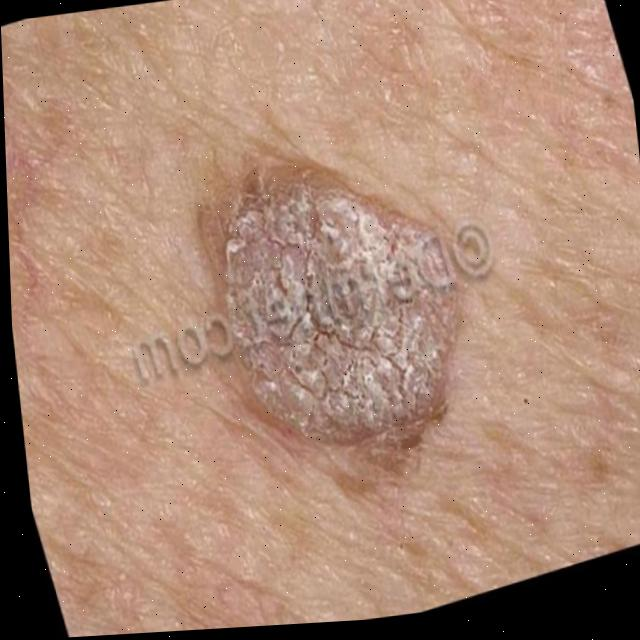Eczema: (218, 166, 447, 452)
